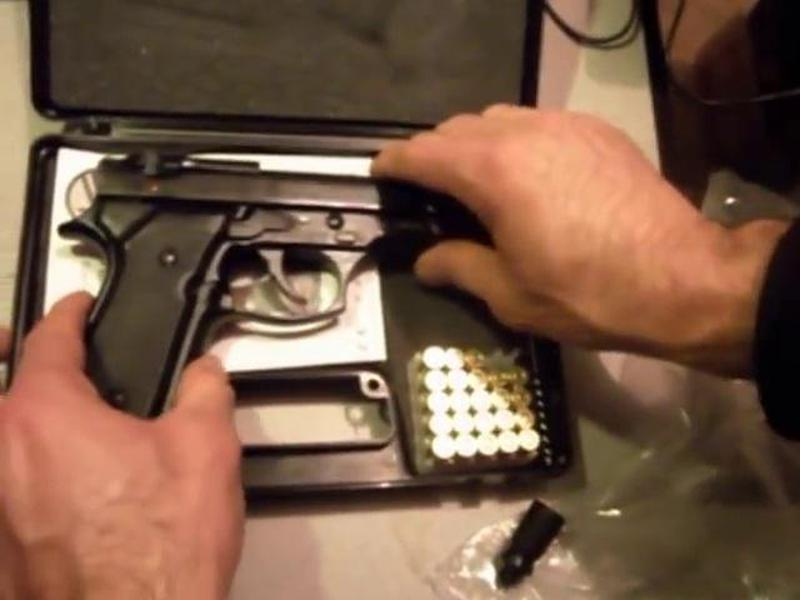Pistola: (39, 151, 477, 452)
